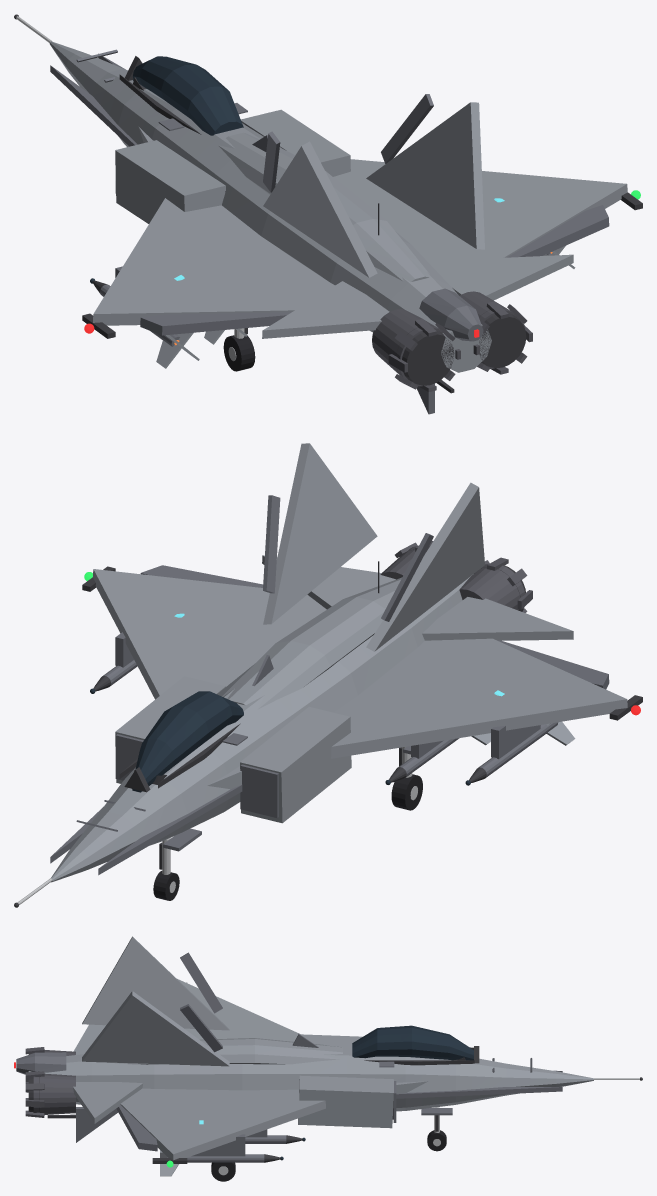
Rendered from nighthawk_stealth_interceptor.glb.
3 views of the same model, one above another, from view 1: azimuth 30°, elevation 25°; view 2: azimuth 150°, elevation 25°; view 3: azimuth 270°, elevation 25° (orthographic). The views are drawn at different scales.
Visible parts, largest first — view 1: wing_-1, fuselage, wing_1, vert_tail_1, vert_tail_-1, intake_cowl_-1, spine, canopy, taileron_-1, taileron_1, intake_cowl_1, flaperon_-1 (+11 smaller); view 2: wing_-1, fuselage, wing_1, vert_tail_1, spine, intake_cowl_-1, vert_tail_-1, canopy, taileron_-1, intake_cowl_1, taileron_1, nozzle_-1 (+10 smaller); view 3: fuselage, wing_1, vert_tail_1, vert_tail_-1, intake_cowl_1, canopy, spine, wing_-1, taileron_1, nozzle_1, chine_1, tailcone (+10 smaller).
Boxes of the visible parts, x1,y1,x2,y2 form: wing_-1: (93,198,334,325); fuselage: (49,41,491,372); wing_1: (333,159,627,261); vert_tail_1: (366,102,484,249); vert_tail_-1: (263,141,377,277); intake_cowl_-1: (115,140,225,223); spine: (218,132,429,281); canopy: (133,56,243,135); taileron_-1: (262,281,389,338); taileron_1: (427,254,573,300); intake_cowl_1: (241,109,350,176); flaperon_-1: (140,312,291,335); wing_-1: (331,638,627,758); fuselage: (51,574,473,882); wing_1: (93,569,326,699); vert_tail_1: (263,443,377,624); spine: (222,577,401,709); intake_cowl_-1: (240,706,351,823); vert_tail_-1: (366,482,484,651); canopy: (132,691,243,792); taileron_-1: (422,597,573,640); intake_cowl_1: (115,676,225,783); taileron_1: (262,555,395,609); nozzle_-1: (459,564,525,611); fuselage: (28,1045,593,1111); wing_1: (120,1088,325,1160); vert_tail_1: (82,991,229,1066); vert_tail_-1: (82,936,229,1030); intake_cowl_1: (298,1075,393,1128); canopy: (352,1025,473,1060); spine: (106,1038,342,1064); wing_-1: (177,979,300,1041); taileron_1: (73,1082,143,1123); nozzle_1: (33,1073,75,1114); chine_1: (396,1087,562,1098); tailcone: (16,1052,66,1074).
Bounding box in the file's own units: 6.95 × 3.29 × 10.01.
